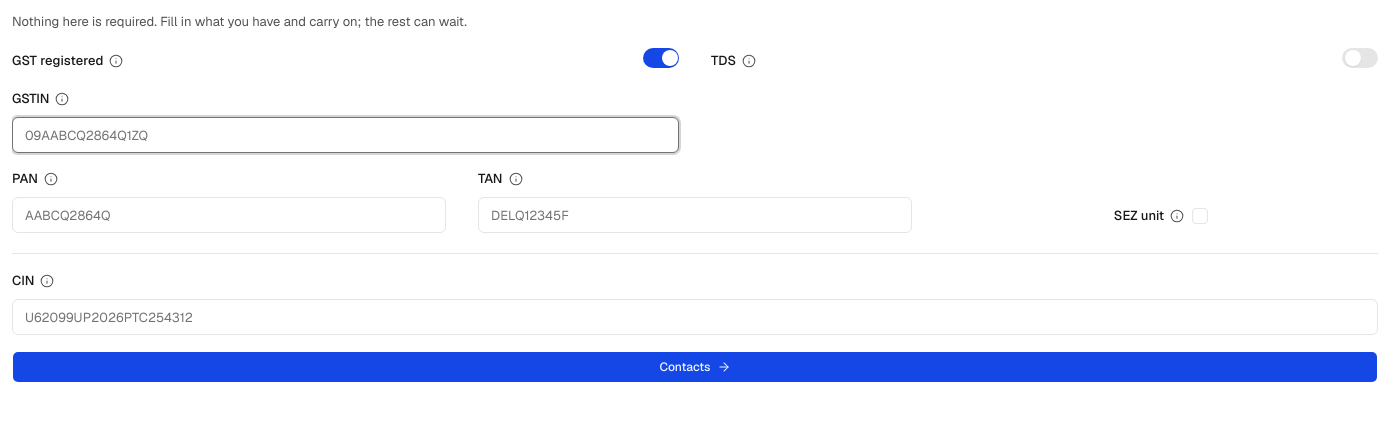
it: the India branch › asks for the section, rate and TAN once TDS is switched on
Click the switch named "tds" at (1360, 58), box x1=1342 y1=48 x2=1378 y2=68
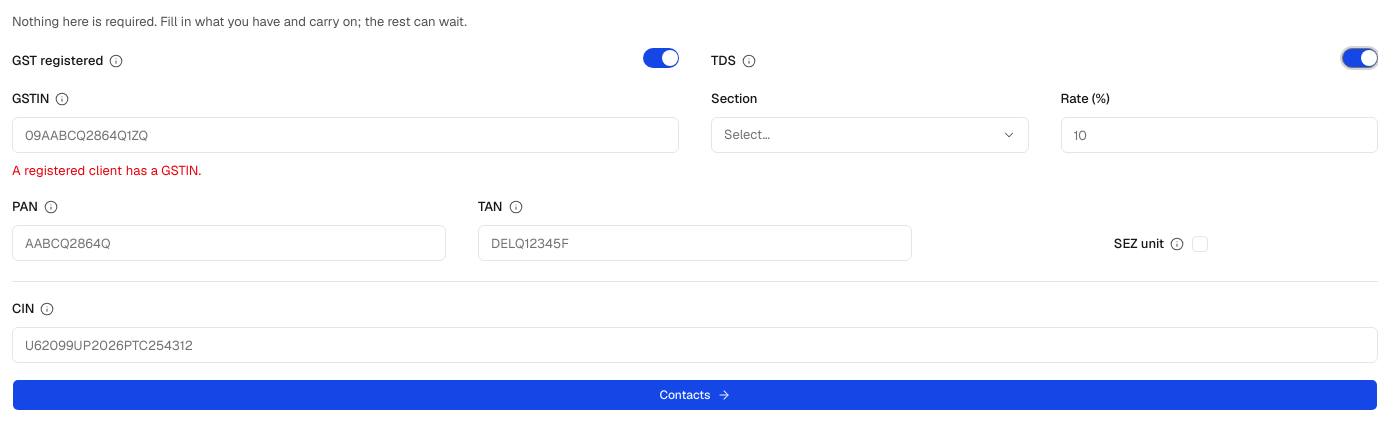
Click the button "Contacts" at (695, 395), box x1=12 y1=379 x2=1378 y2=411
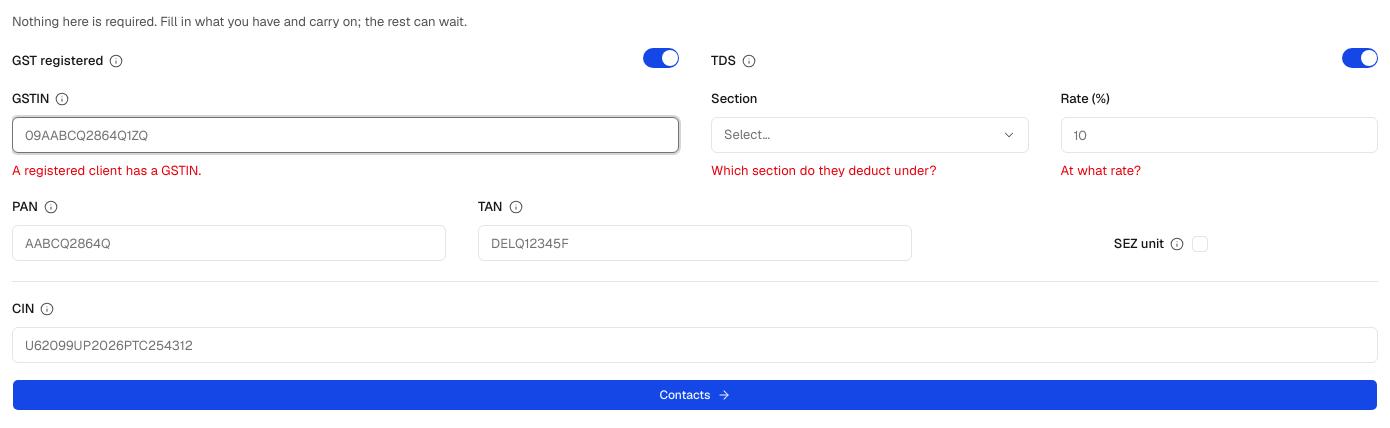
Expected: the text "Which section do they deduct under?" is shown, x1=711 y1=162 x2=937 y2=179
